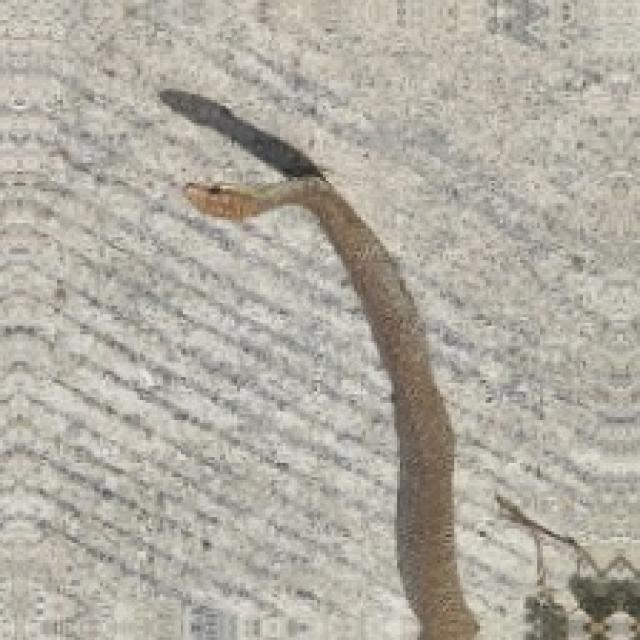paradise tree snake: (160, 89, 474, 637)
